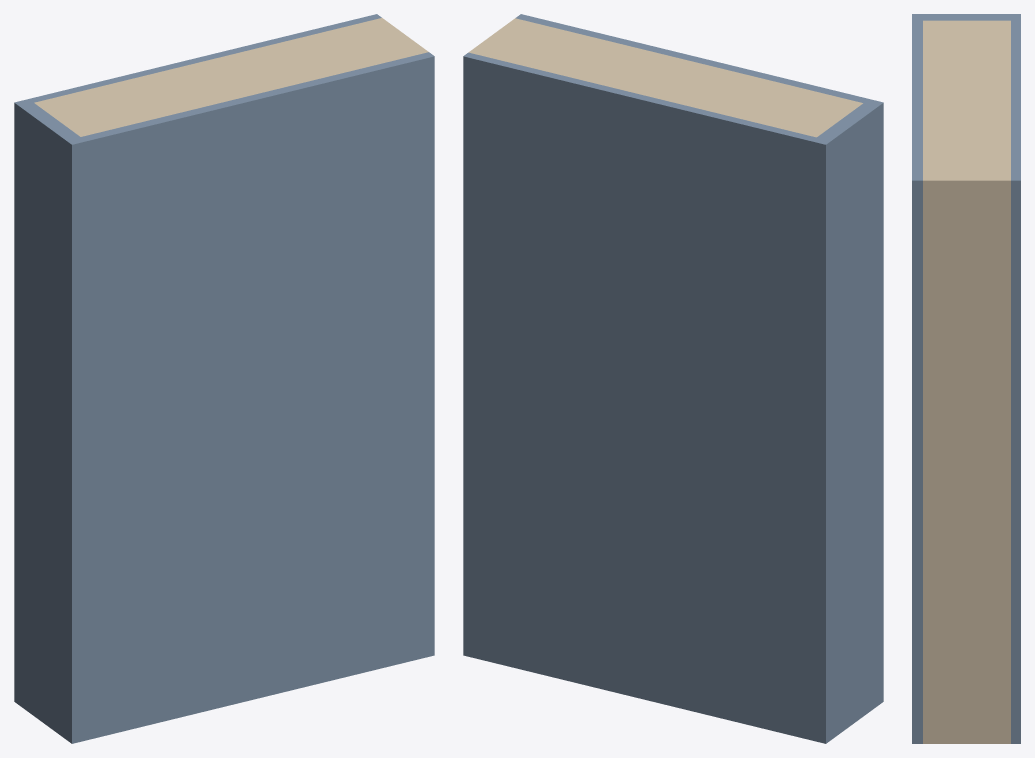
The model's file is Books_6.fbx.
The picture shows the model from 3 angles, left to right: view 1: azimuth 30°, elevation 25°; view 2: azimuth 150°, elevation 25°; view 3: azimuth 270°, elevation 25°; orthographic projection. The views are drawn at different scales.
Visible parts, largest first — view 1: pCube769; view 2: pCube769; view 3: pCube769.
Boxes of the visible parts, x1,y1,x2,y2 form: pCube769: (14, 14, 434, 743); pCube769: (463, 14, 883, 743); pCube769: (912, 14, 1020, 743).
Size of the model in its own units: 0.3622 by 0.5715 by 0.1.
Materials: 1 (1 with a texture image).
